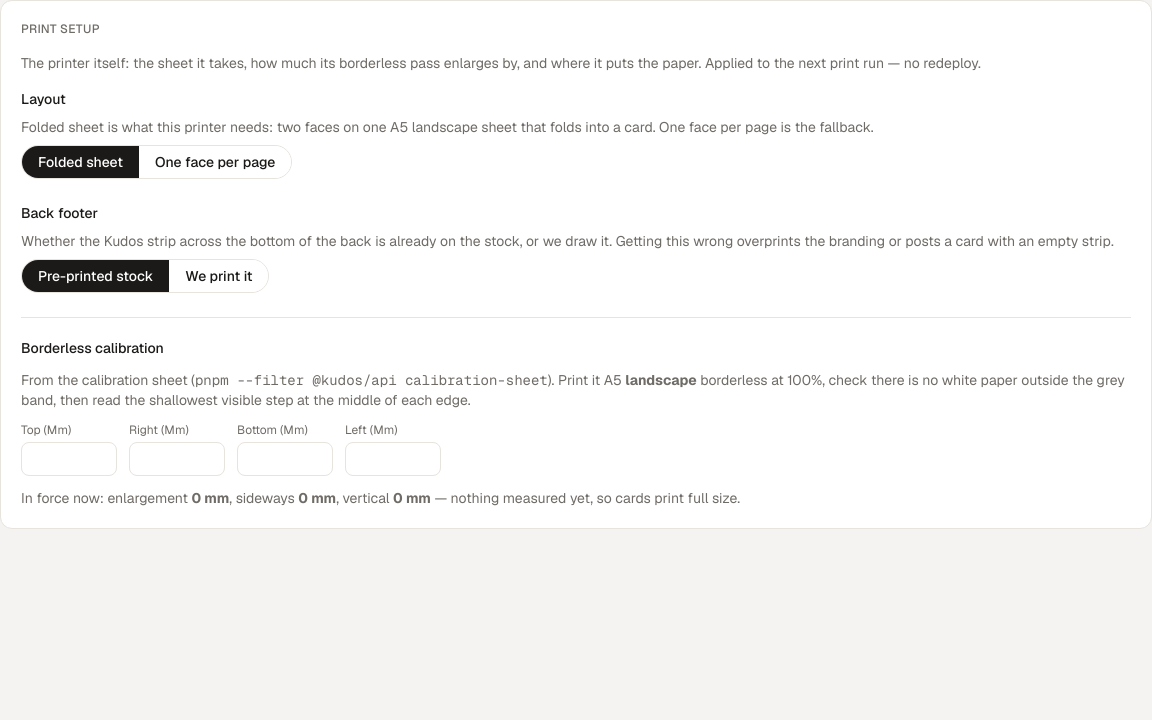
PrintProfileSetup › warns when the four readings cannot all be right
This screenshot has width=1152, height=720.
Expected: the heading "Borderless calibration" is shown, [21, 339, 164, 357]
Step 1. Type "0.5" into the number field labelled "top (mm)" → {"x": 69, "y": 459}, box [21, 442, 117, 476]
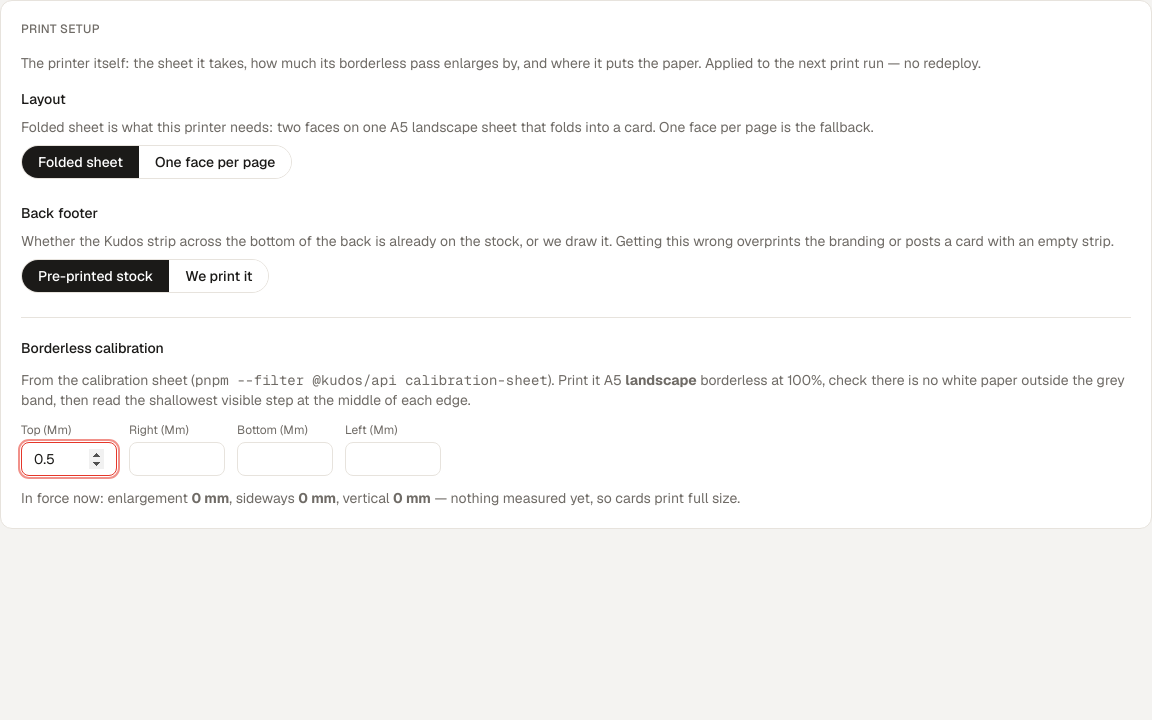
Step 2. Type "5" into the number field labelled "right (mm)" → {"x": 177, "y": 459}, box [129, 442, 225, 476]
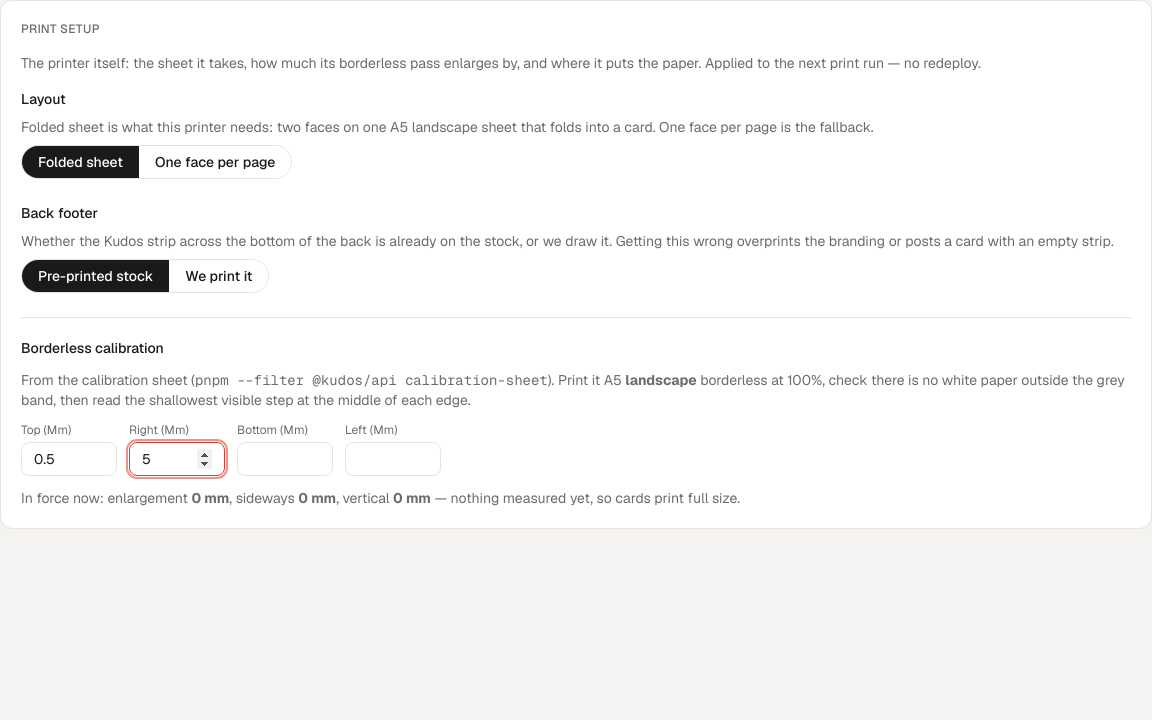
Step 3. Type "0.5" into the number field labelled "bottom (mm)" → {"x": 285, "y": 459}, box [237, 442, 333, 476]
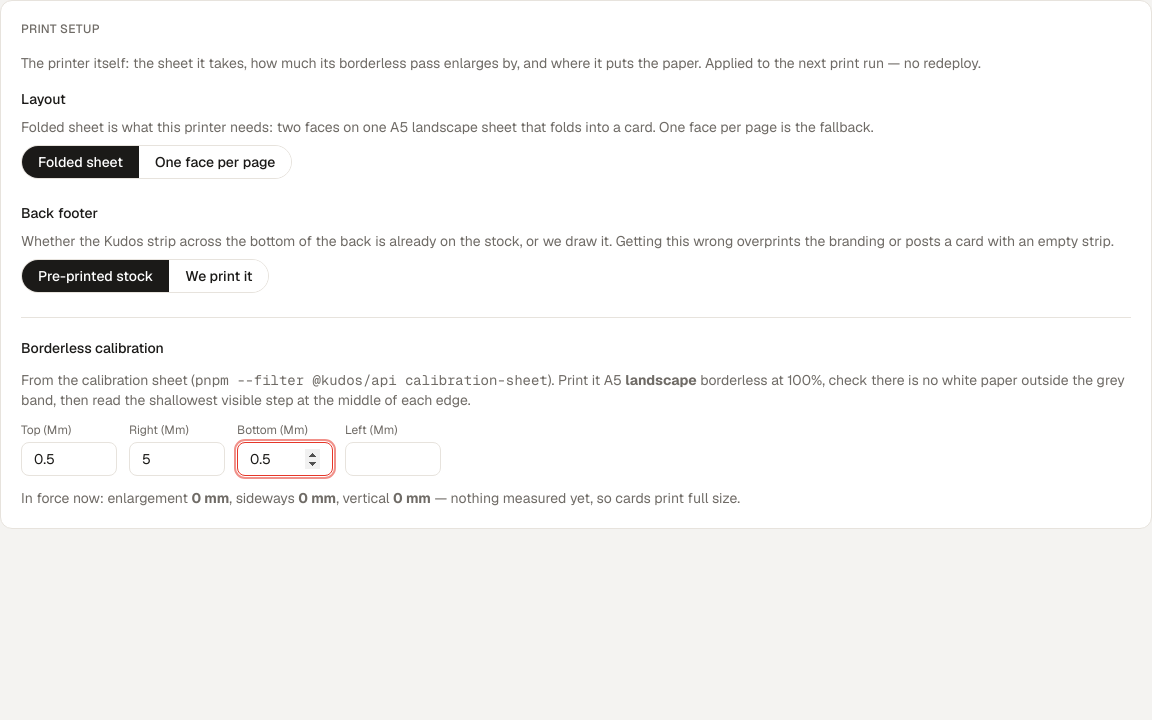
Step 4. Type "5" into the number field labelled "left (mm)" → {"x": 393, "y": 459}, box [345, 442, 441, 476]
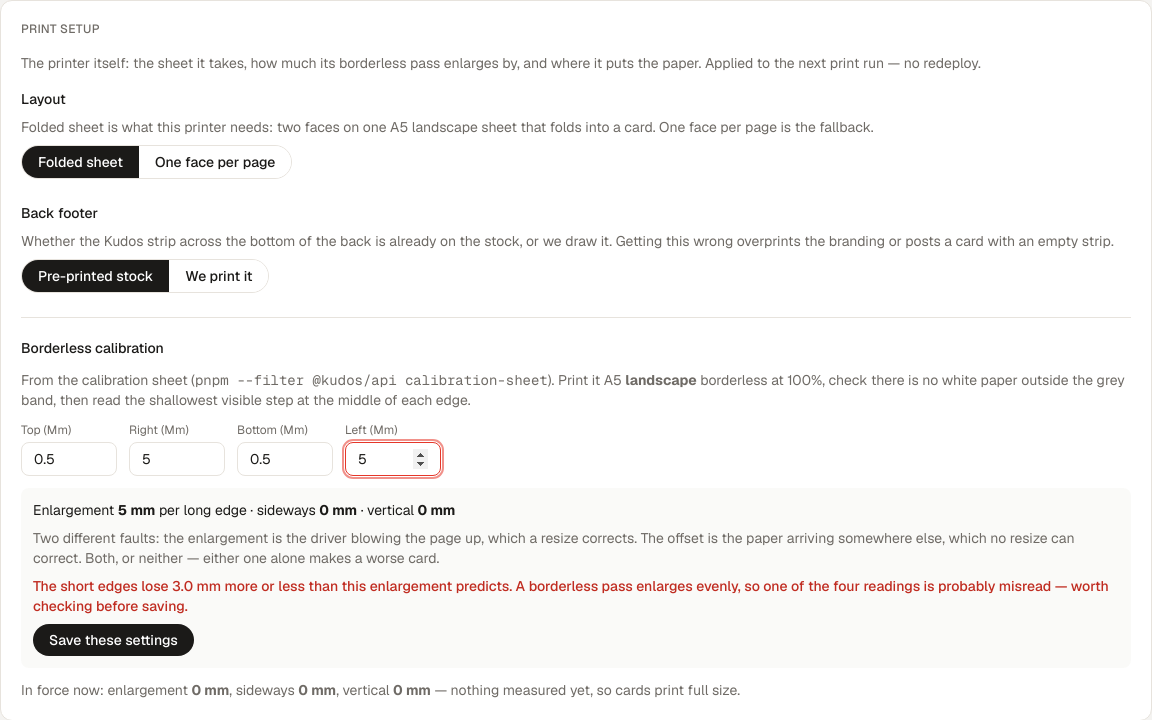
Expected: the text "one of the four readings is probably misread" is shown, [33, 577, 1109, 615]
